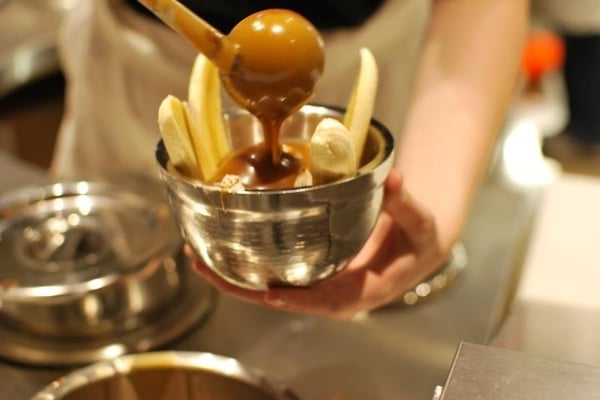sushi: (0, 175, 186, 357)
